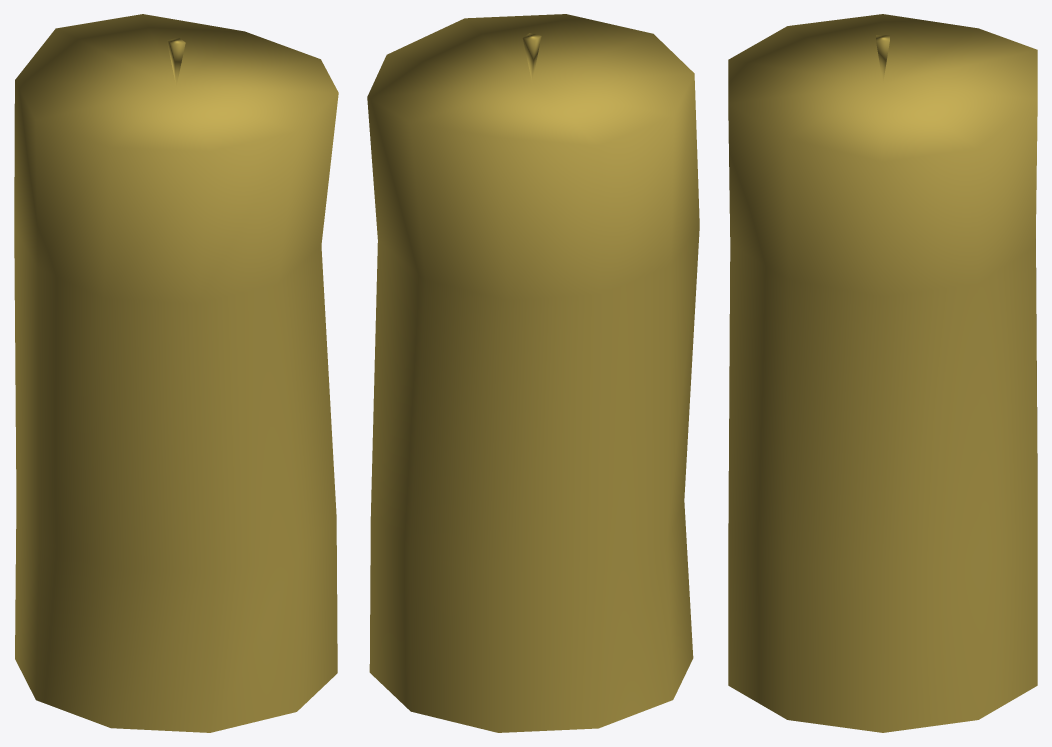
File: candle2_LP.fbx
3 renders of one model, left to right at view 1: azimuth 30°, elevation 25°; view 2: azimuth 150°, elevation 25°; view 3: azimuth 270°, elevation 25°, orthographic.
Parts seen in each view (by area): view 1: candle3_LP; view 2: candle3_LP; view 3: candle3_LP.
Boxes of the visible parts, box(x1,y1,x2,y2) form: candle3_LP: box(14, 14, 338, 732); candle3_LP: box(367, 14, 699, 732); candle3_LP: box(728, 14, 1037, 732).
Bounding box in the file's own units: 8.78 × 18.37 × 8.23.
